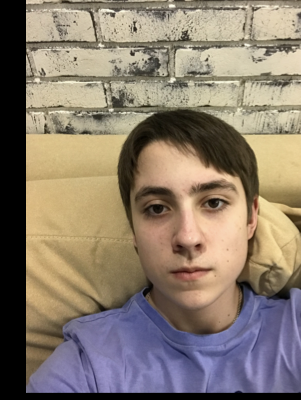without_mask: (129, 174, 245, 309)
